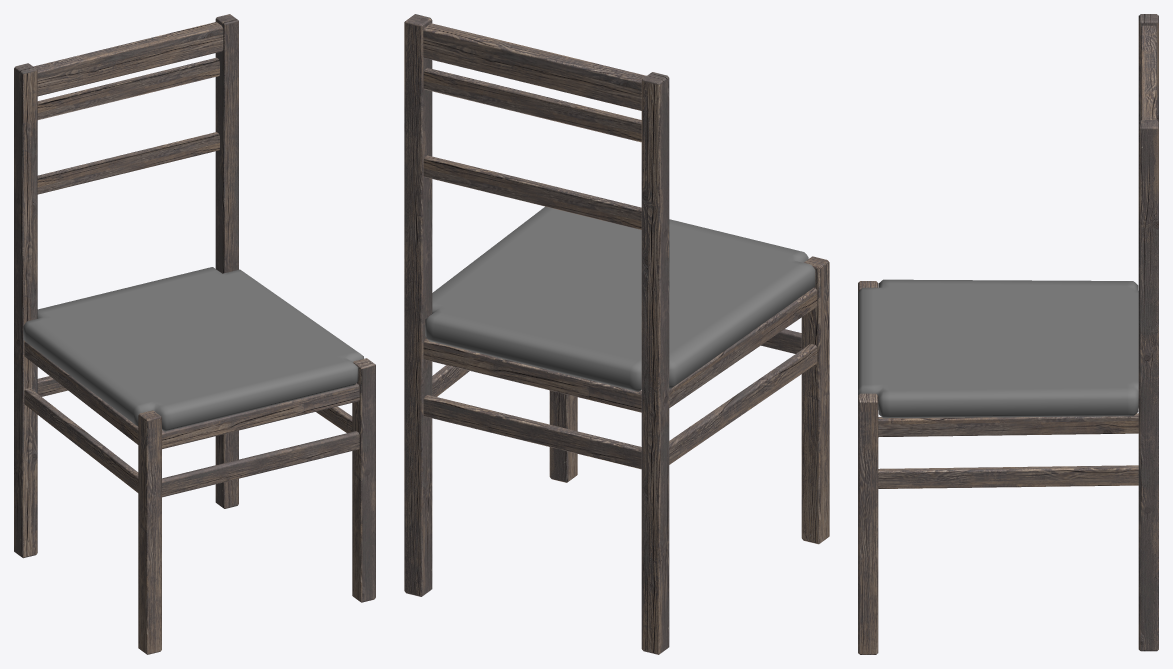
Rendered from Chair01.FBX.
3 renders of one model, left to right at view 1: azimuth 30°, elevation 25°; view 2: azimuth 150°, elevation 25°; view 3: azimuth 270°, elevation 25°, orthographic. The views are drawn at different scales.
Parts seen in each view (by area): view 1: Object026; view 2: Object026; view 3: Object026.
Boxes of the visible parts, left/top/right/bottom form: Object026: left=14, top=14, right=375, bottom=654; Object026: left=404, top=14, right=829, bottom=654; Object026: left=858, top=14, right=1158, bottom=654.
Bounding box in the file's own units: 18.85 × 19.79 × 38.1.
